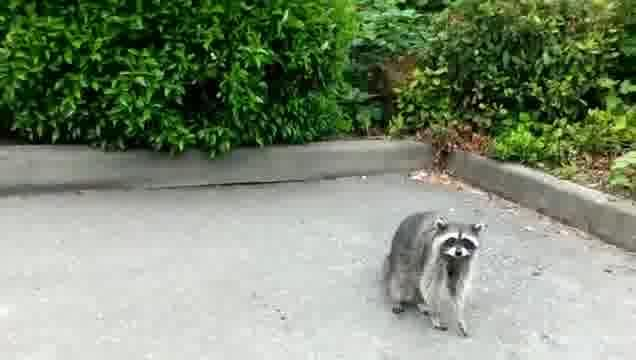raccoon: (378, 210, 486, 340)
